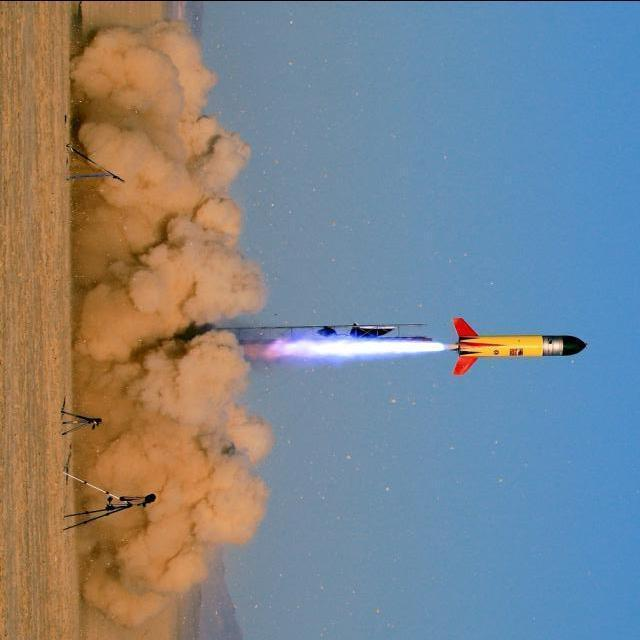missile: (448, 313, 588, 381)
